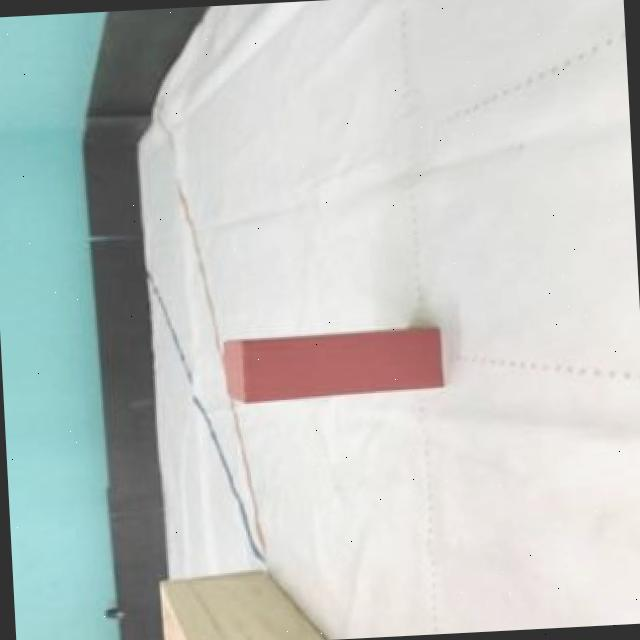redbox: (218, 324, 444, 406)
